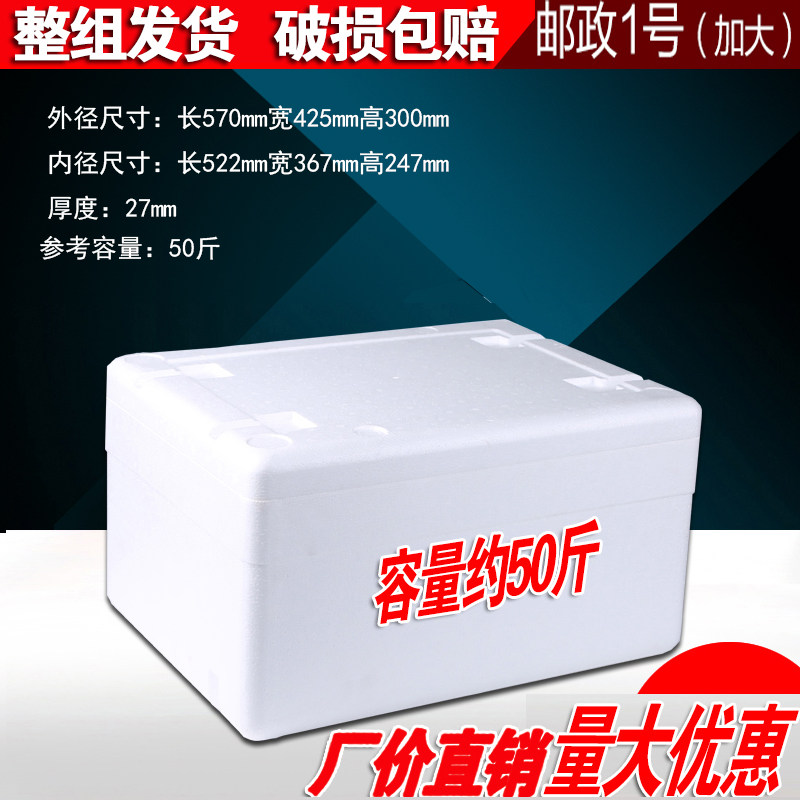Boxes: (107, 321, 700, 739)
